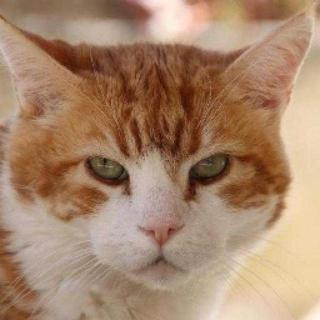cat: (3, 19, 308, 295)
nose: (130, 188, 191, 254)
